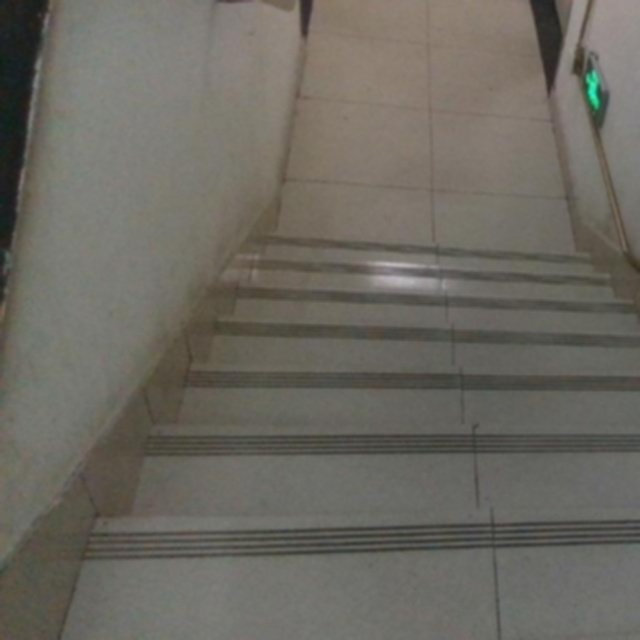stair: (126, 228, 640, 619)
